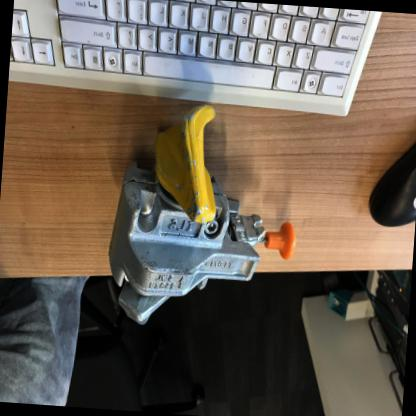Twistlock: (95, 96, 308, 338)
